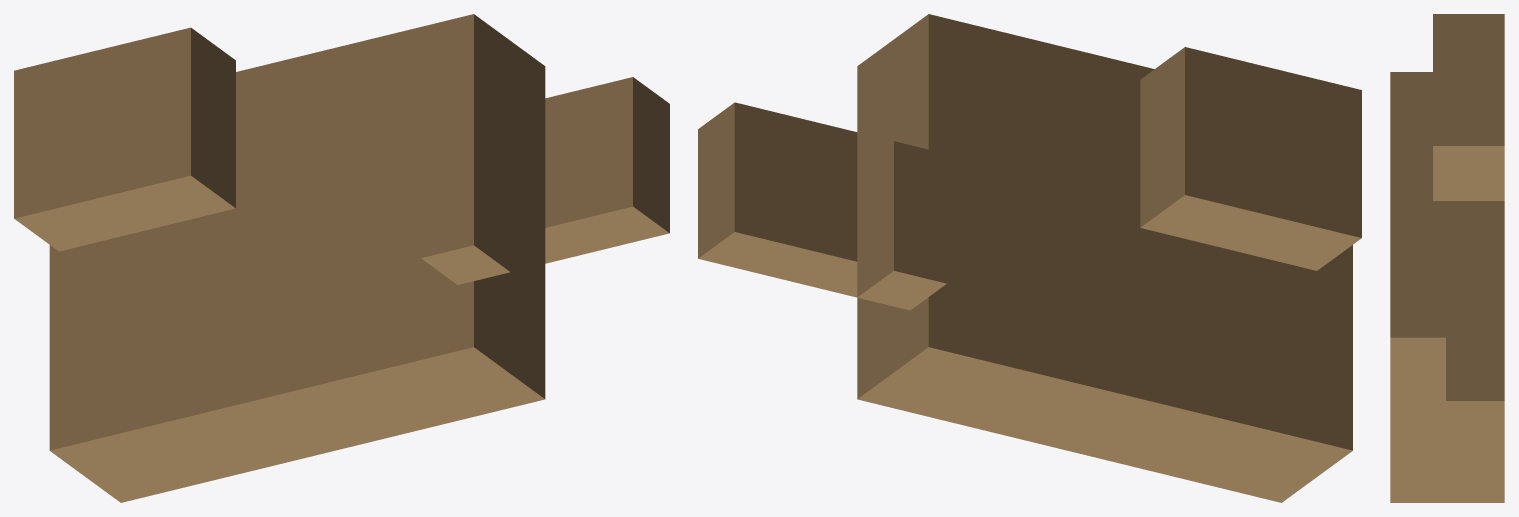
The model's file is SM_KoaTradingPost_Alpha.gltf.
3 renders of one model, left to right at view 1: azimuth 30°, elevation 25°; view 2: azimuth 150°, elevation 25°; view 3: azimuth 270°, elevation 25°, orthographic. The views are drawn at different scales.
Parts seen in each view (by area): view 1: SM_KoaTradingPost_Alpha; view 2: SM_KoaTradingPost_Alpha; view 3: SM_KoaTradingPost_Alpha.
Boxes of the visible parts, x1,y1,x2,y2 form: SM_KoaTradingPost_Alpha: [14, 14, 669, 502]; SM_KoaTradingPost_Alpha: [698, 14, 1361, 502]; SM_KoaTradingPost_Alpha: [1390, 14, 1504, 502].
Size of the model in its own units: 3.5 by 2.1 by 0.7.
